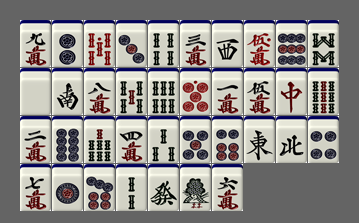0m: (244, 20, 275, 67)
0p: (180, 68, 211, 115)
0s: (84, 20, 115, 67)
1m: (212, 68, 243, 115)
1p: (52, 164, 83, 211)
1s: (180, 164, 211, 211)
1z: (244, 116, 275, 163)
2m: (20, 116, 51, 163)
2p: (52, 20, 83, 67)
2s: (116, 164, 147, 211)
2z: (52, 68, 83, 115)
3m: (180, 20, 211, 67)
3p: (116, 20, 147, 67)
3s: (148, 116, 179, 163)
3z: (212, 20, 243, 67)
4m: (116, 116, 147, 163)
4p: (308, 116, 339, 163)
4s: (148, 20, 179, 67)
4z: (276, 116, 307, 163)
5m: (244, 68, 275, 115)
5p: (180, 116, 211, 163)
5s: (116, 68, 147, 115)
5z: (20, 68, 51, 115)
6m: (212, 164, 243, 211)
6p: (212, 116, 243, 163)
6s: (148, 68, 179, 115)
6z: (148, 164, 179, 211)
7m: (20, 164, 51, 211)
7p: (84, 164, 115, 211)
7s: (84, 116, 115, 163)
7z: (276, 68, 307, 115)
8m: (84, 68, 115, 115)
8p: (52, 116, 83, 163)
8s: (308, 20, 339, 67)
9m: (20, 20, 51, 67)
9p: (276, 20, 307, 67)
9s: (308, 68, 339, 115)
